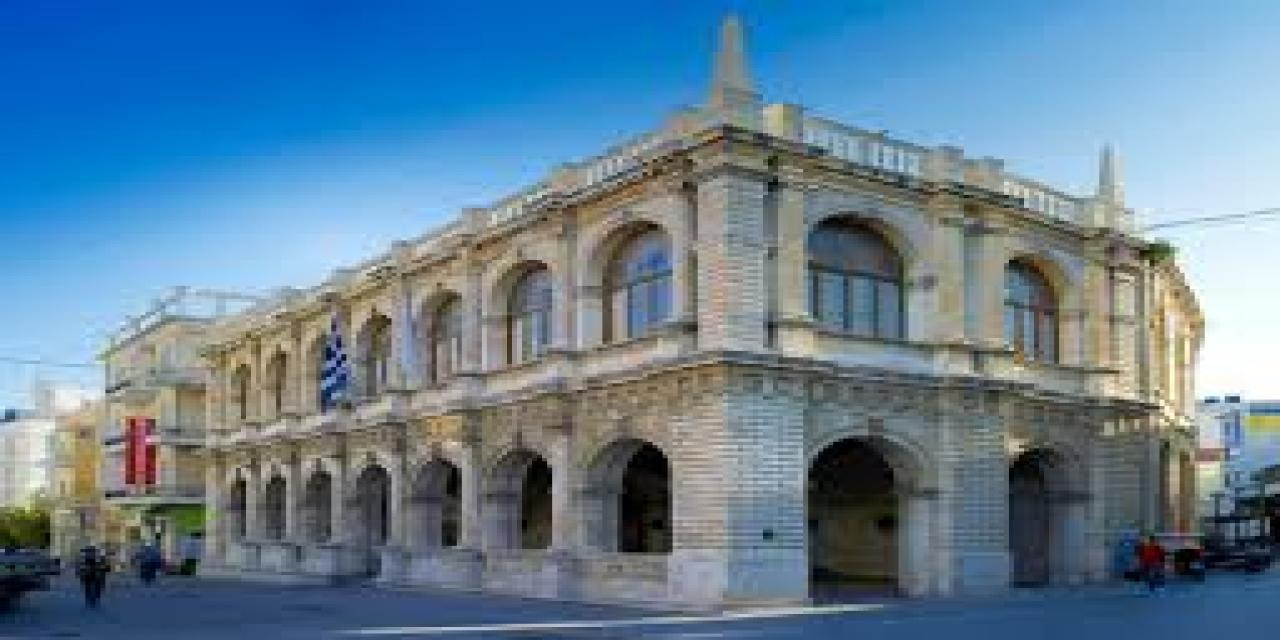Loggia: (203, 8, 1199, 618)
